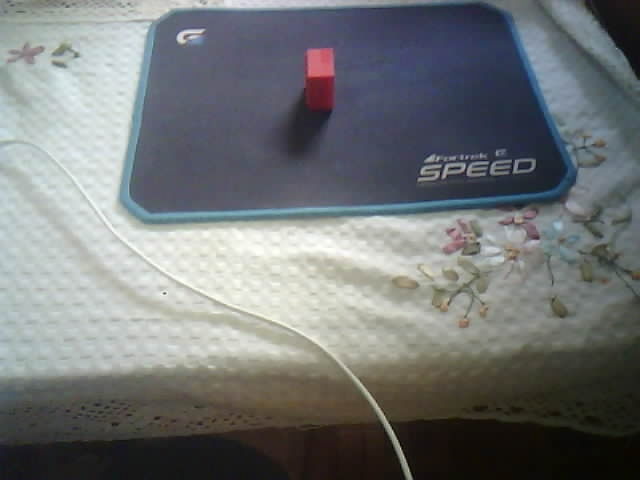lego: (303, 47, 335, 112)
